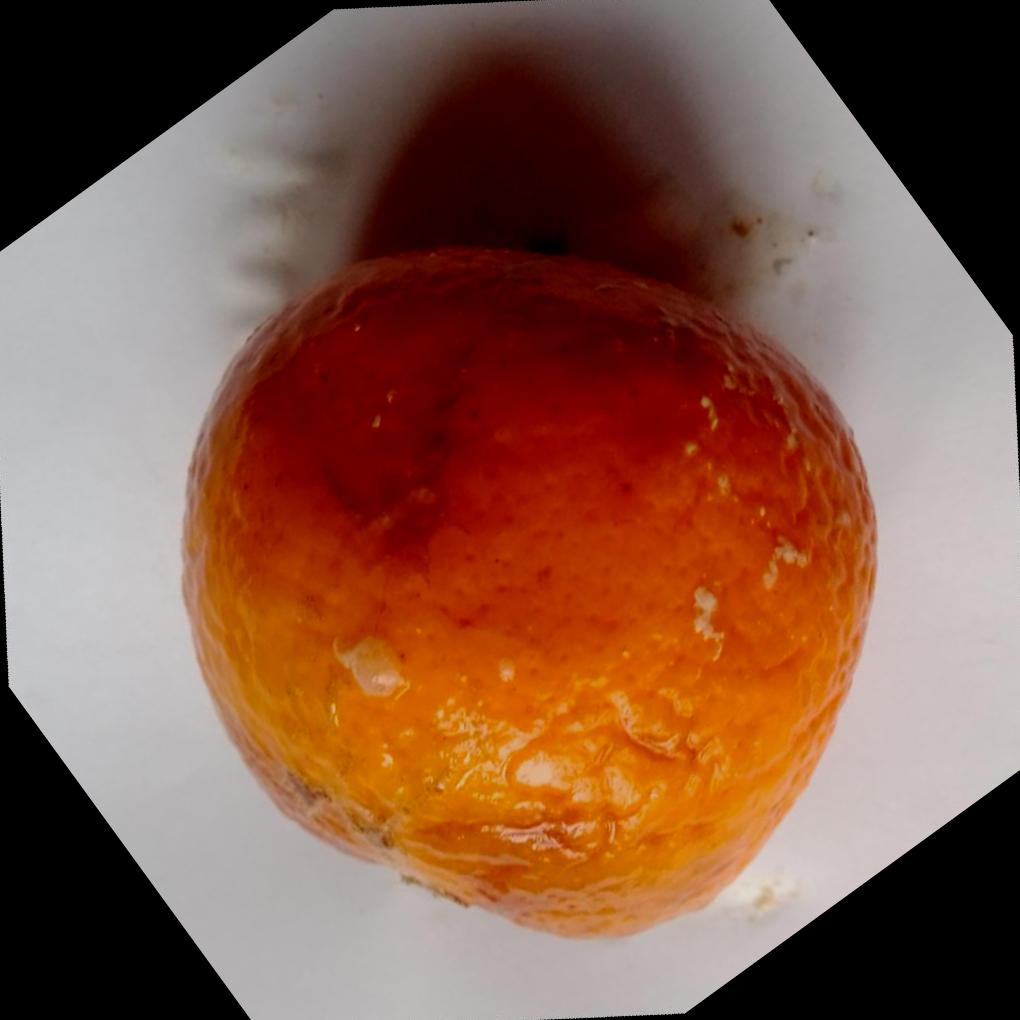FreshOrange: (178, 239, 878, 940)
